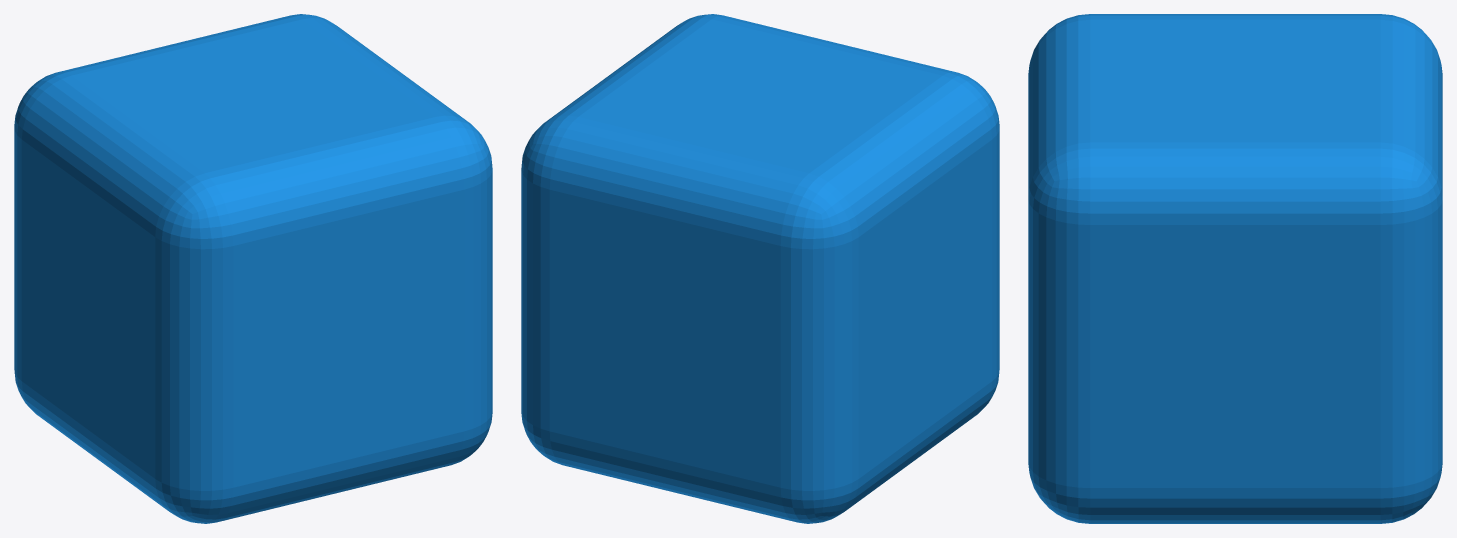
3 renders of one model, left to right at view 1: azimuth 30°, elevation 25°; view 2: azimuth 150°, elevation 25°; view 3: azimuth 270°, elevation 25°, orthographic. The views are drawn at different scales.
Visible parts, largest first — view 1: Cube.001; view 2: Cube.001; view 3: Cube.001.
Part boxes in pixels (box(x1,y1,x2,y2)): Cube.001: box(14, 14, 492, 523); Cube.001: box(521, 14, 999, 523); Cube.001: box(1028, 14, 1442, 523).
Bounding box in the file's own units: 294 × 294 × 294.
